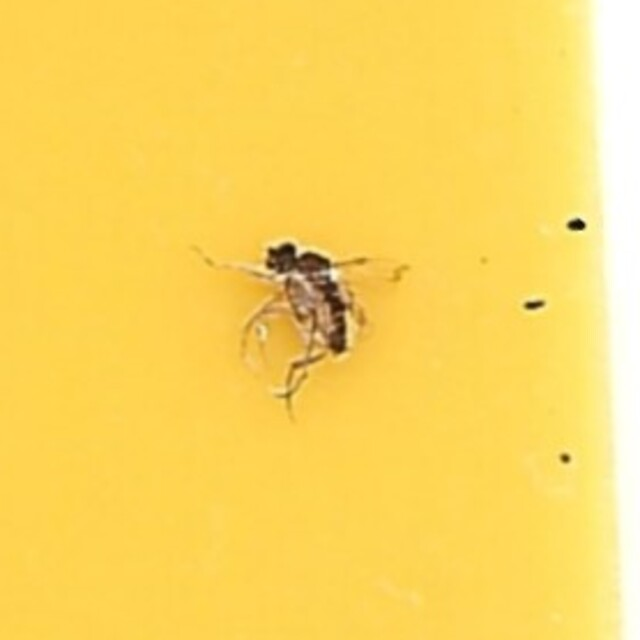Brachycera: (230, 233, 410, 407)
